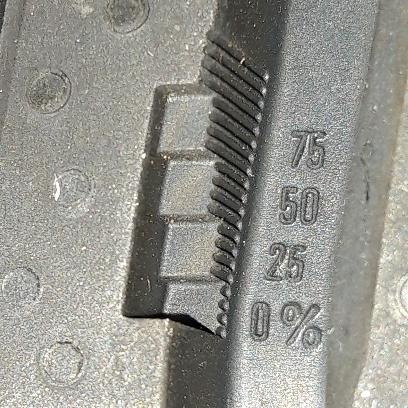temoin:100: (120, 30, 270, 341)
